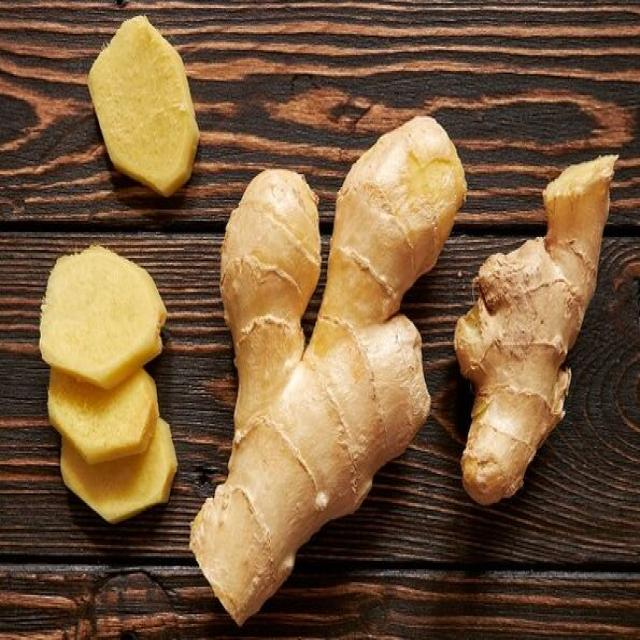ginger-root: (180, 97, 494, 634)
